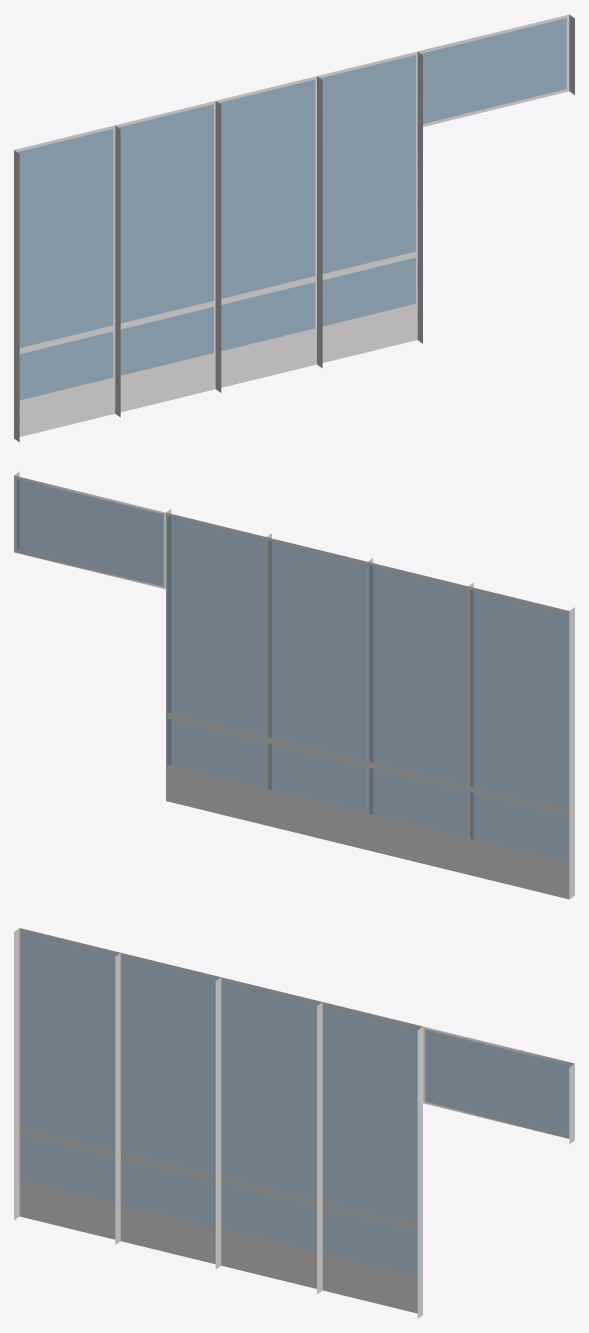
File: p55-entrance-enter-glas.fbx
3 views of the same model, one above another, from view 1: azimuth 30°, elevation 25°; view 2: azimuth 150°, elevation 25°; view 3: azimuth 330°, elevation 25° (orthographic).
Visible parts, largest first — view 1: p55-entrance-enter-glas.003; view 2: p55-entrance-enter-glas.003; view 3: p55-entrance-enter-glas.003.
Part boxes in pixels (x1,y1,x2,y2): p55-entrance-enter-glas.003: (14, 14, 574, 442); p55-entrance-enter-glas.003: (14, 471, 574, 899); p55-entrance-enter-glas.003: (14, 928, 574, 1318).
Bounding box in the file's own units: 582 × 289 × 10.
